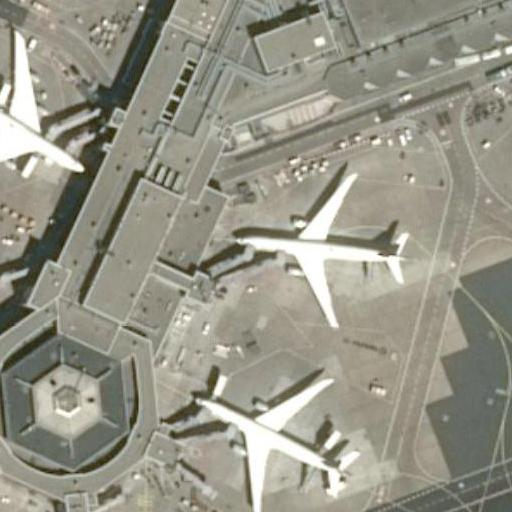Aircraft: (223, 163, 416, 335), (179, 365, 369, 512), (0, 23, 95, 187), (0, 0, 175, 2)
